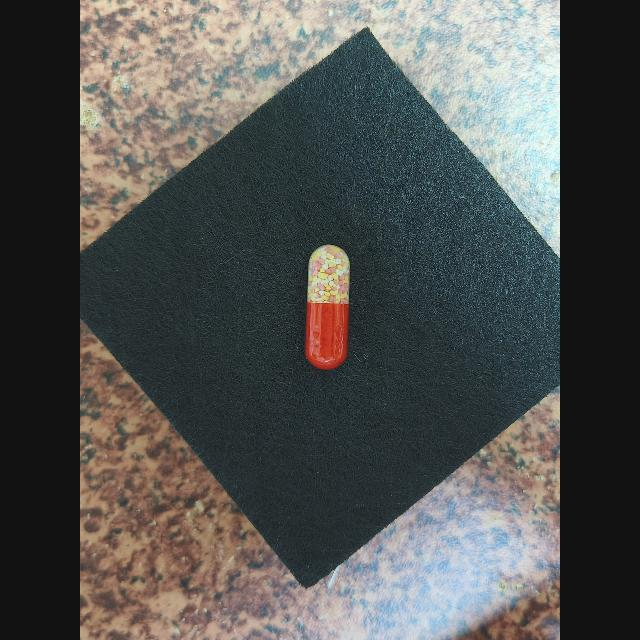Intact Capsule: (305, 244, 350, 369)
